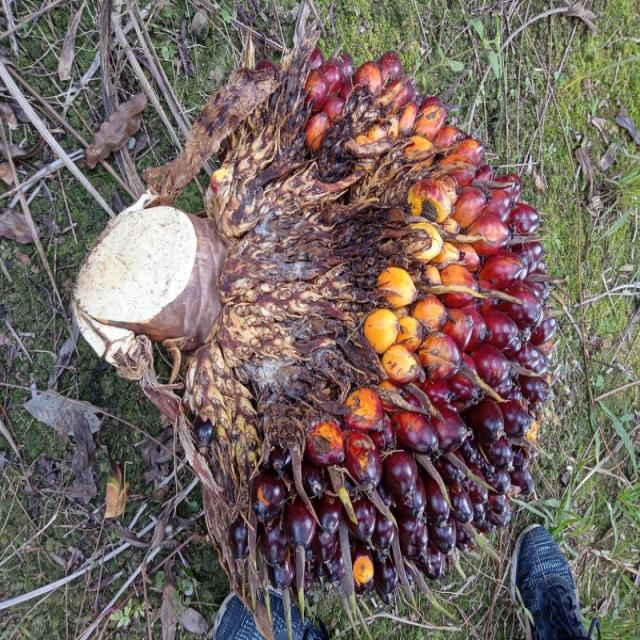fraksi 1: (107, 43, 583, 632)
